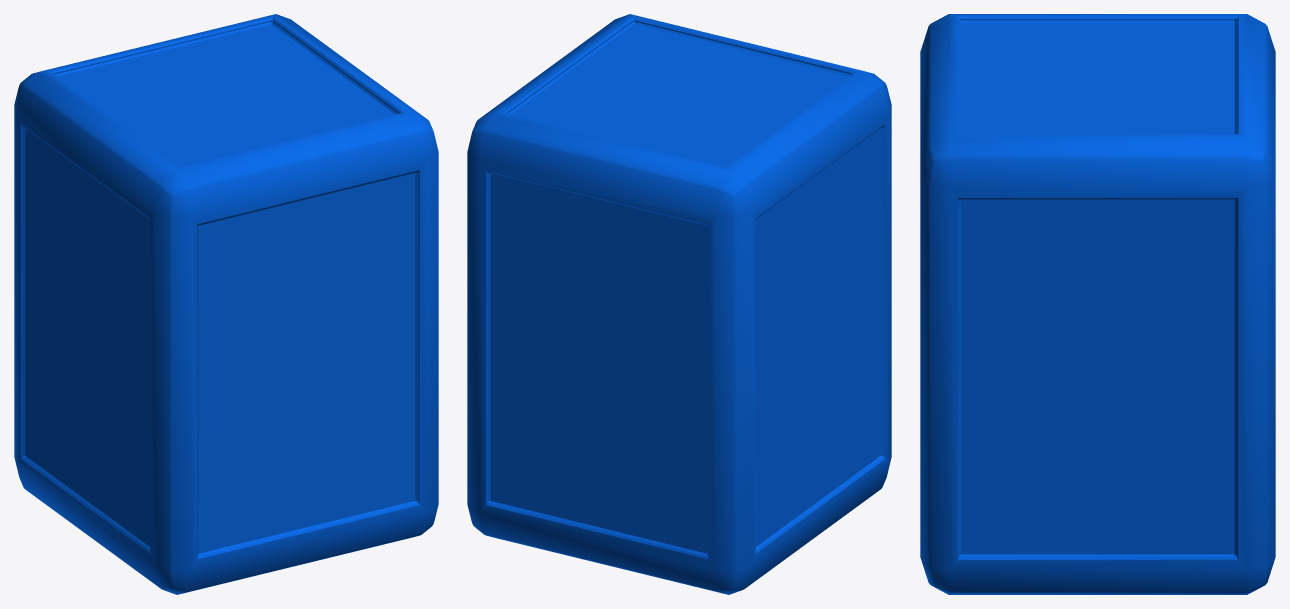
Rendered from SM_Castle_Box2.fbx.
3 views of the same model, side by side, from view 1: azimuth 30°, elevation 25°; view 2: azimuth 150°, elevation 25°; view 3: azimuth 270°, elevation 25° (orthographic). The views are drawn at different scales.
Parts seen in each view (by area): view 1: Box 2; view 2: Box 2; view 3: Box 2.
Boxes of the visible parts, bbox=[...] form: Box 2: bbox=[14, 14, 438, 594]; Box 2: bbox=[467, 14, 891, 594]; Box 2: bbox=[920, 14, 1275, 594].
Bounding box in the file's own units: 185 × 266 × 186.
